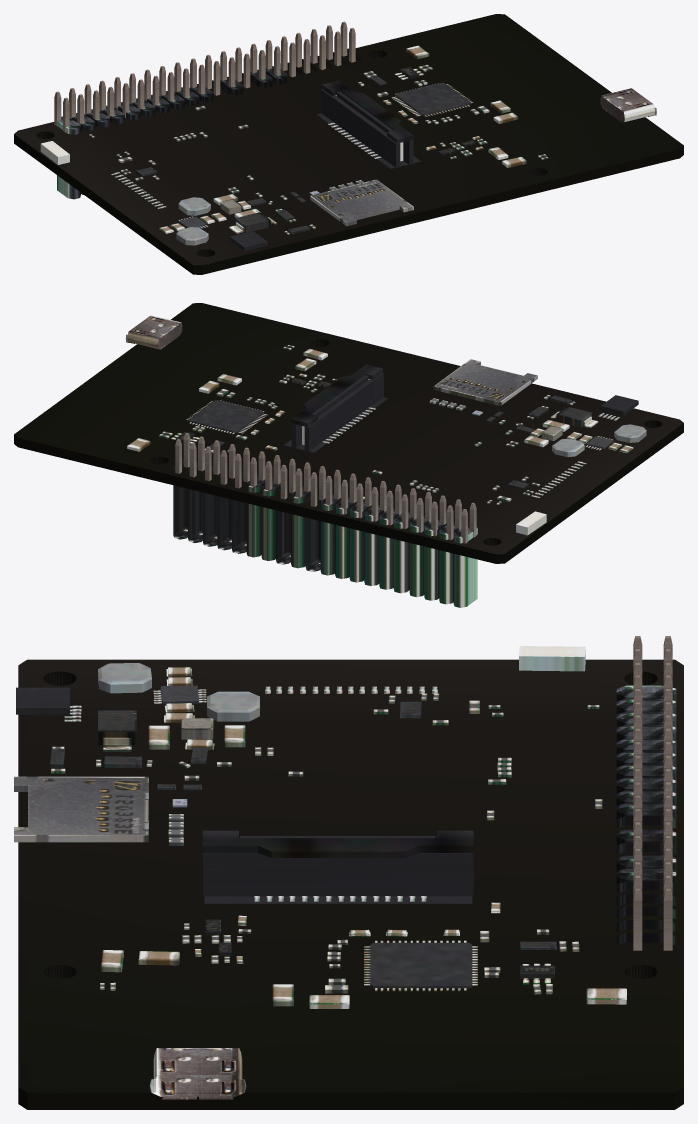
The model's file is rpiHAT.glb.
3 views of the same model, one above another, from view 1: azimuth 30°, elevation 25°; view 2: azimuth 150°, elevation 25°; view 3: azimuth 270°, elevation 25° (orthographic). The views are drawn at different scales.
Visible parts, largest first — view 1: rpi-3-hat; view 2: rpi-3-hat; view 3: rpi-3-hat.
Part boxes in pixels (bbox=[...]): rpi-3-hat: bbox=[14, 14, 683, 274]; rpi-3-hat: bbox=[14, 303, 683, 607]; rpi-3-hat: bbox=[14, 636, 683, 1109].
Bounding box in the file's own units: 87.63 × 16.3 × 56.34.
1 material, 1 textured.
